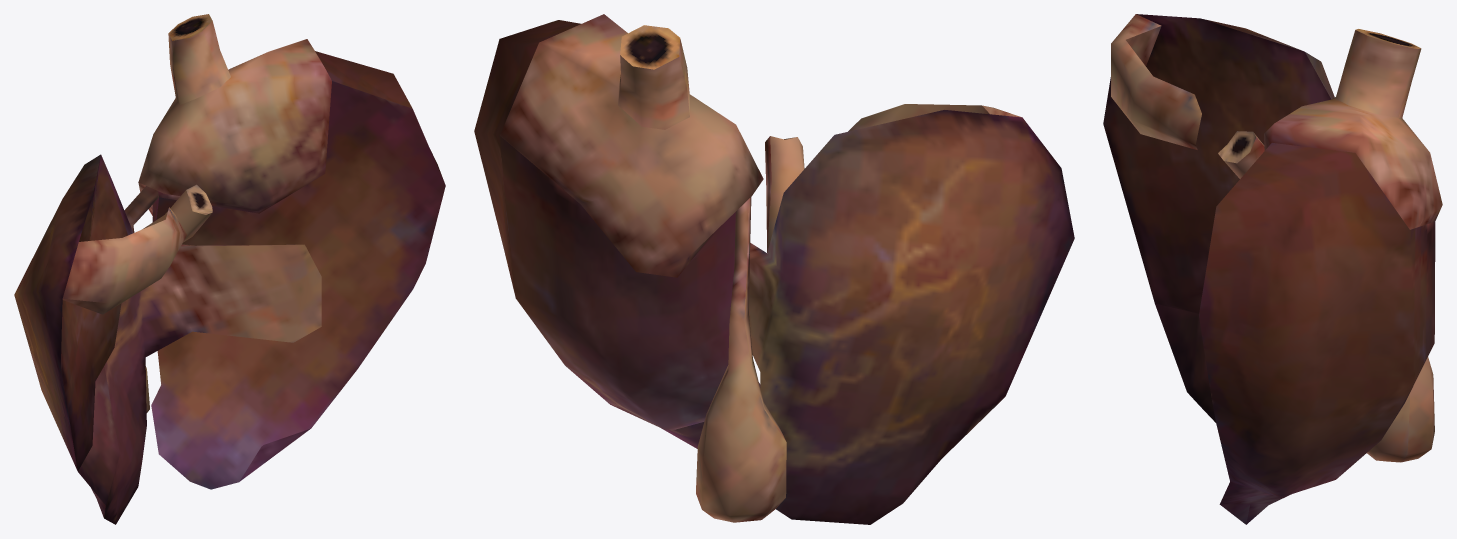
File: eqp_organ_liver_s02_l0.fbx
3 renders of one model, left to right at view 1: azimuth 30°, elevation 25°; view 2: azimuth 150°, elevation 25°; view 3: azimuth 270°, elevation 25°, orthographic. The views are drawn at different scales.
Parts seen in each view (by area): view 1: mesh_node; view 2: mesh_node; view 3: mesh_node.
Part boxes in pixels (x1,y1,x2,y2): mesh_node: (14,14,445,524); mesh_node: (474,14,1074,524); mesh_node: (1103,14,1442,524).
Size of the model in its own units: 0.1742 by 0.1633 by 0.0966.
